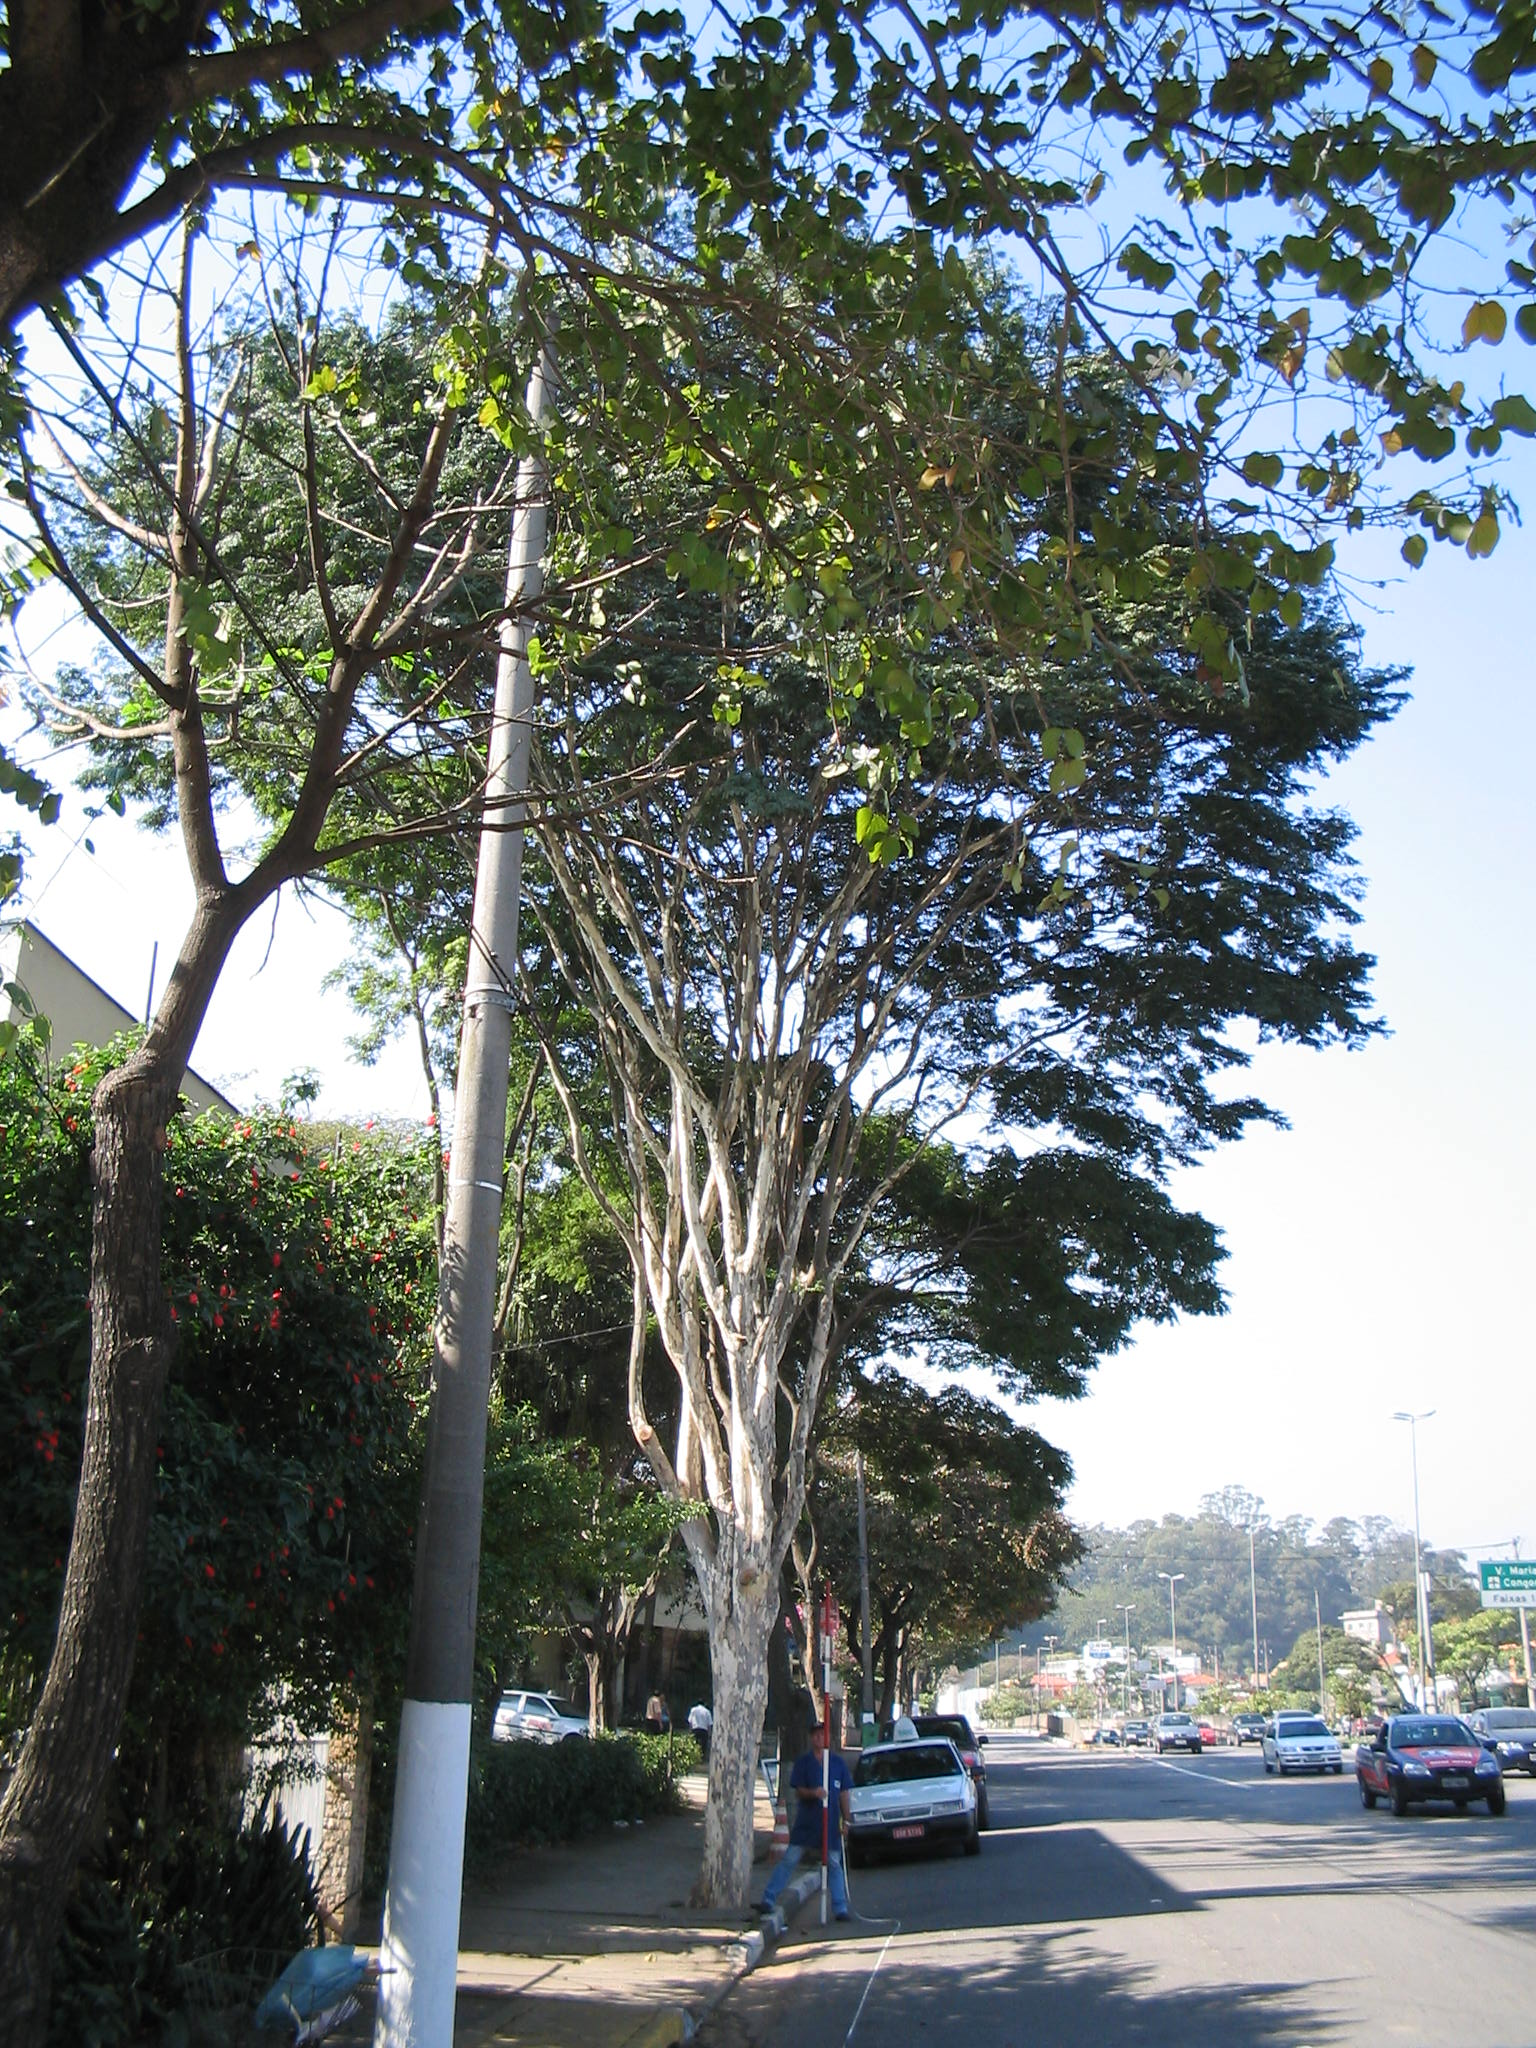crown: (61, 255, 1404, 947)
stem: (665, 1576, 794, 1911)
stick: (807, 1579, 841, 1925)
tree: (52, 247, 1412, 1916)
